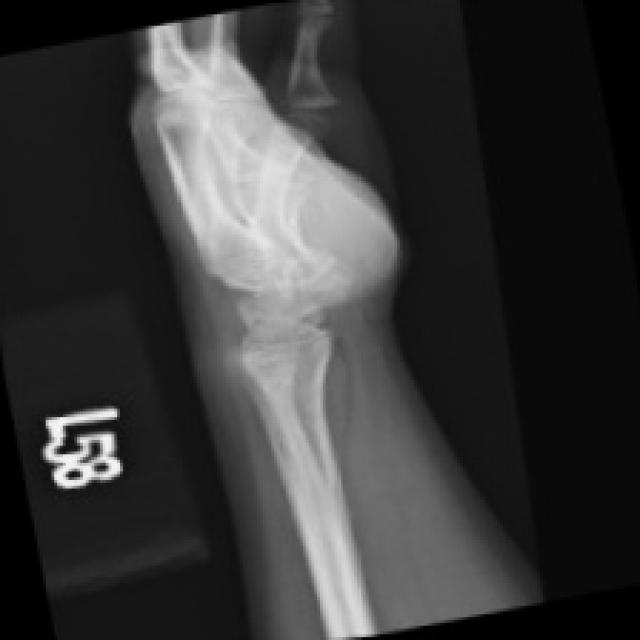fracture: (273, 86, 382, 156)
